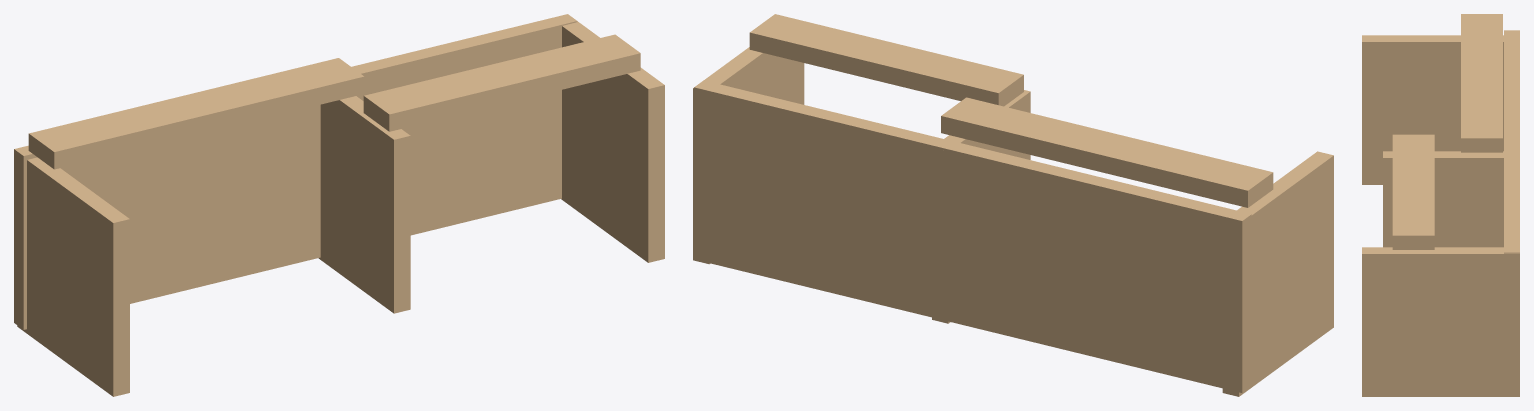
The model's file is tinker.obj.
3 renders of one model, left to right at view 1: azimuth 30°, elevation 25°; view 2: azimuth 150°, elevation 25°; view 3: azimuth 270°, elevation 25°, orthographic. The views are drawn at different scales.
Parts seen in each view (by area): view 1: obj_0; view 2: obj_0; view 3: obj_0.
Boxes of the visible parts, x1,y1,x2,y2 form: obj_0: (14,14,664,396); obj_0: (693,14,1333,396); obj_0: (1362,14,1519,396).
Size of the model in its own units: 501 by 173 by 150.
